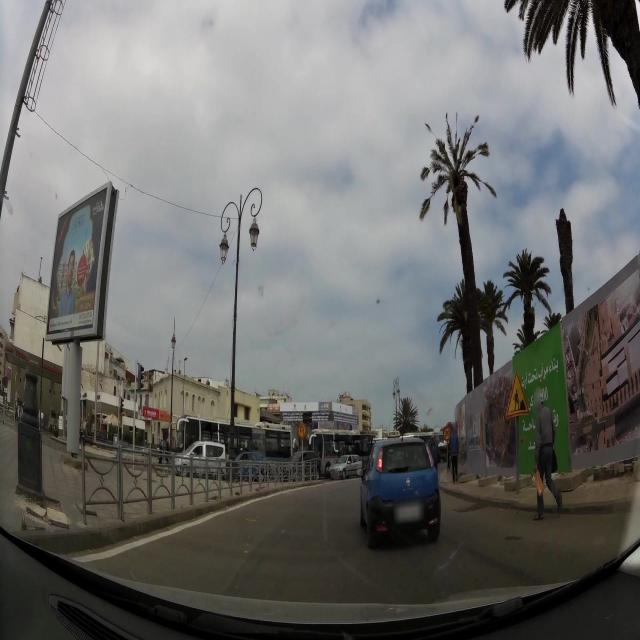car: (360, 433, 441, 548), (174, 440, 228, 477), (329, 454, 365, 479), (20, 404, 41, 429), (56, 411, 66, 438), (48, 411, 59, 434)
